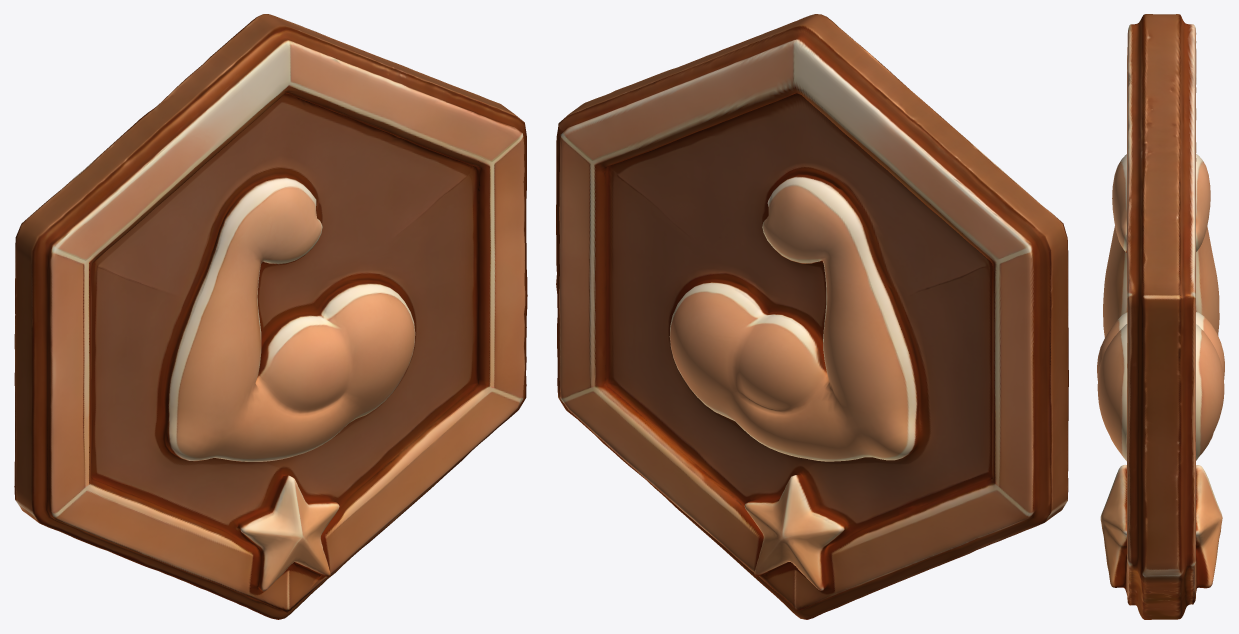
The model's file is bronze.glb.
3 renders of one model, left to right at view 1: azimuth 30°, elevation 25°; view 2: azimuth 150°, elevation 25°; view 3: azimuth 270°, elevation 25°, orthographic.
Parts seen in each view (by area): view 1: model; view 2: model; view 3: model.
Part boxes in pixels (x1,y1,x2,y2): model: (14, 14, 527, 619); model: (556, 14, 1068, 619); model: (1097, 14, 1224, 619).
Size of the model in its own units: 1.65 by 1.9 by 0.3643.
Materials: 1 (1 with a texture image).
